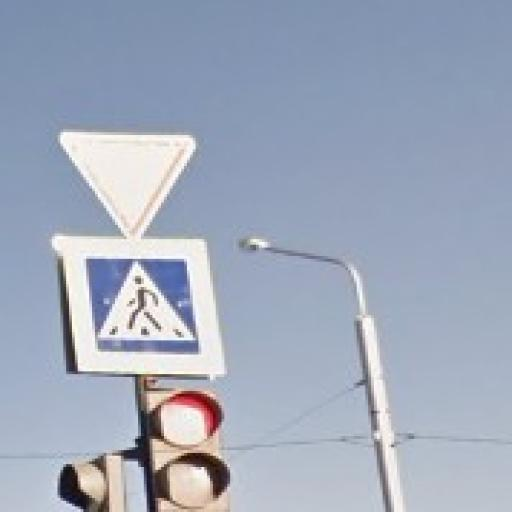traffic_sign: (59, 237, 231, 378), (59, 131, 200, 240)
